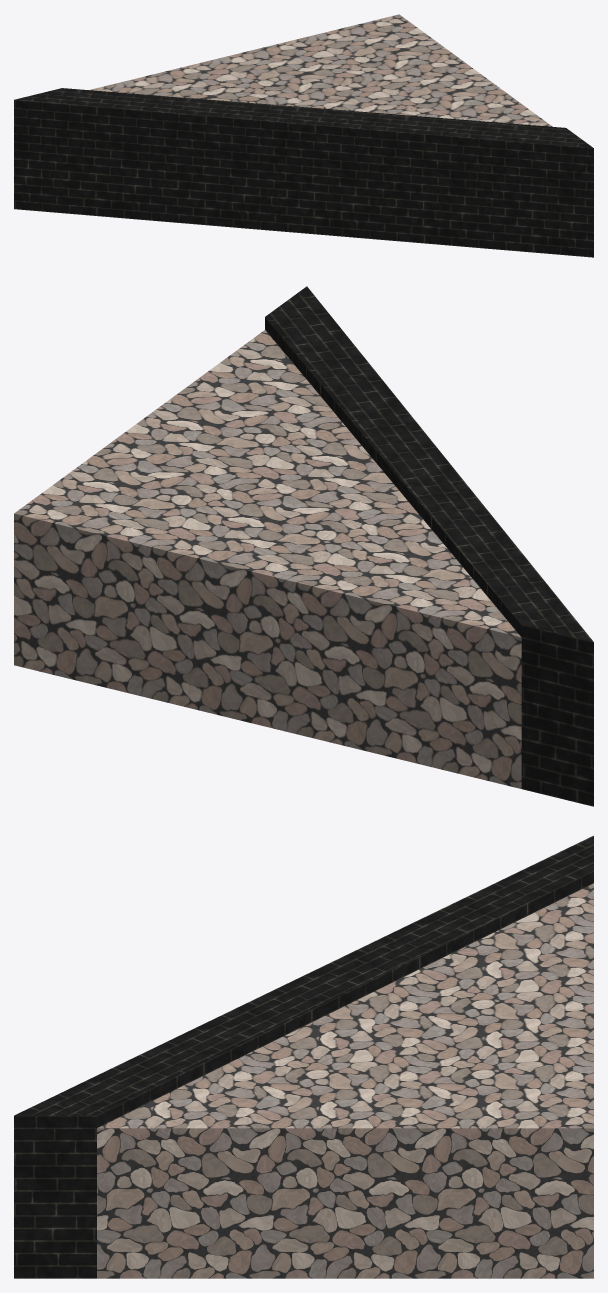
The model's file is cobblestone-45deg.fbx.
3 renders of one model, top to bottom at view 1: azimuth 30°, elevation 25°; view 2: azimuth 150°, elevation 25°; view 3: azimuth 270°, elevation 25°, orthographic. The views are drawn at different scales.
Visible parts, largest first — view 1: cobblestone_45deg; view 2: cobblestone_45deg; view 3: cobblestone_45deg.
Boxes of the visible parts, <box> form: cobblestone_45deg: <box>14,14,593,257</box>; cobblestone_45deg: <box>14,286,593,806</box>; cobblestone_45deg: <box>14,835,593,1278</box>.
Size of the model in its own units: 400 by 108 by 350.
